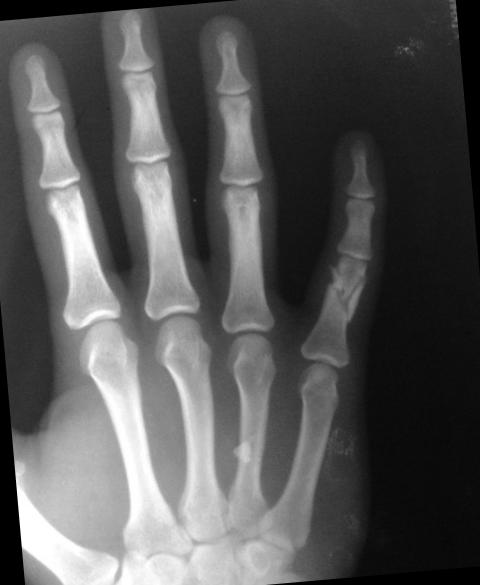fracture: (323, 260, 373, 326)
